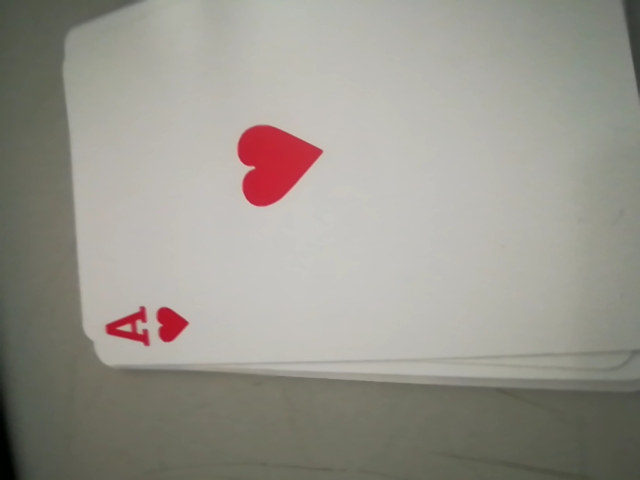hx a: (98, 293, 192, 358)
